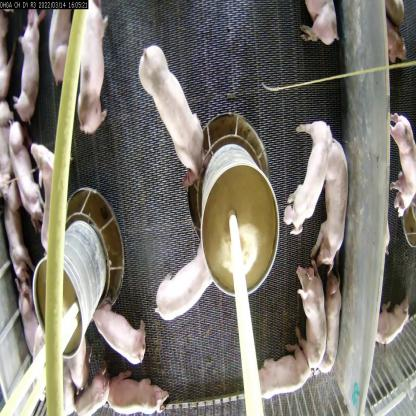Pig: (137, 30, 209, 186), (70, 0, 117, 148), (150, 242, 222, 329), (250, 330, 314, 416), (81, 288, 152, 364), (286, 99, 326, 232), (5, 118, 50, 229), (317, 264, 353, 381), (315, 146, 349, 268), (291, 0, 345, 72), (106, 353, 166, 416), (294, 266, 330, 367), (16, 264, 50, 356), (16, 1, 42, 121), (70, 355, 111, 415), (46, 10, 76, 77)
